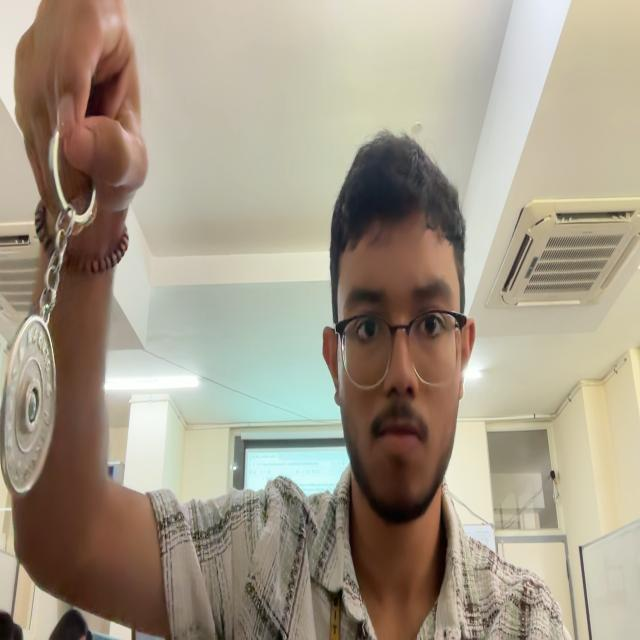dangerous: (0, 130, 96, 494)
